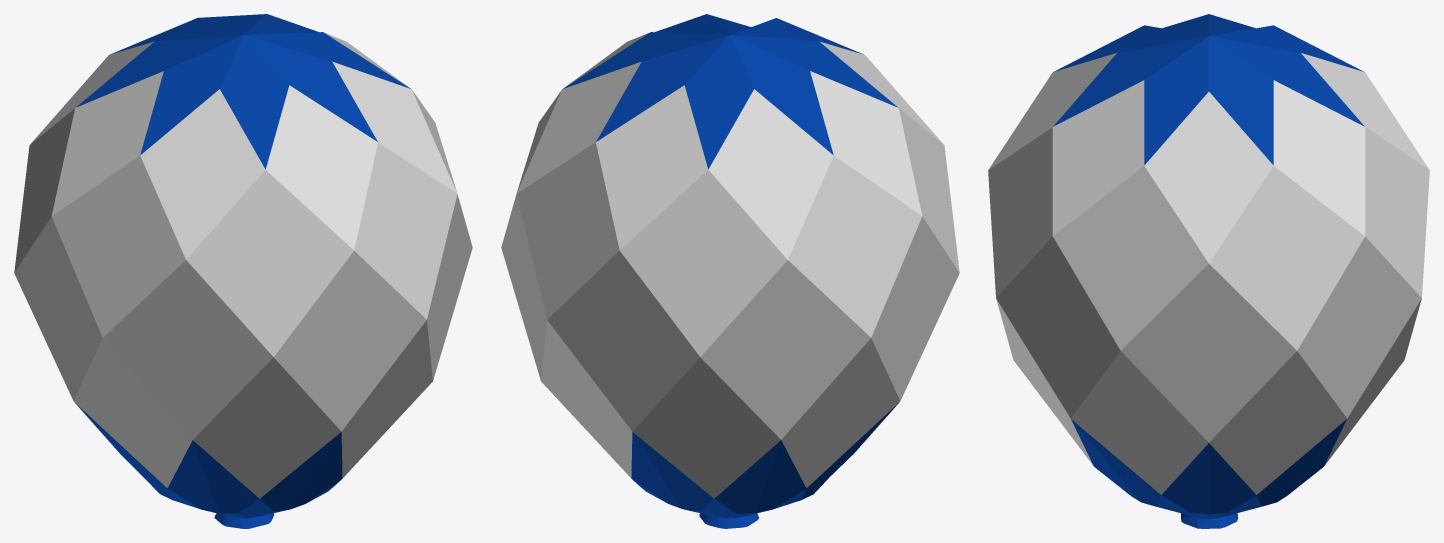
File: Balloon3.fbx
3 views of the same model, side by side, from view 1: azimuth 30°, elevation 25°; view 2: azimuth 150°, elevation 25°; view 3: azimuth 270°, elevation 25° (orthographic).
Parts seen in each view (by area): view 1: Balloon3; view 2: Balloon3; view 3: Balloon3.
Boxes of the visible parts, x1,y1,x2,y2 form: Balloon3: (14, 14, 472, 528); Balloon3: (501, 14, 959, 528); Balloon3: (988, 14, 1429, 528).
Size of the model in its own units: 50.03 by 60.02 by 50.03.
